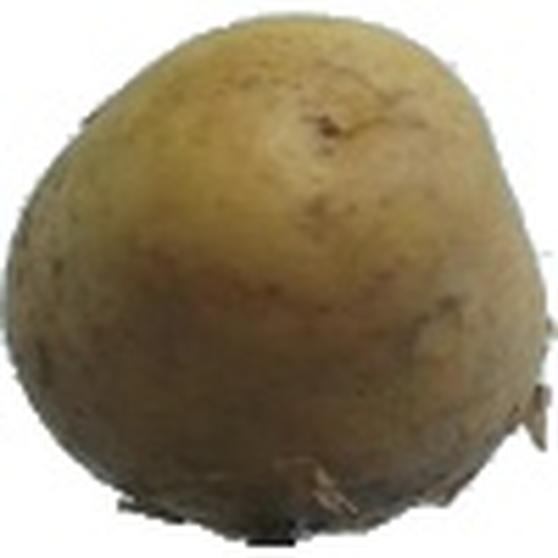potato: (6, 12, 557, 551)
